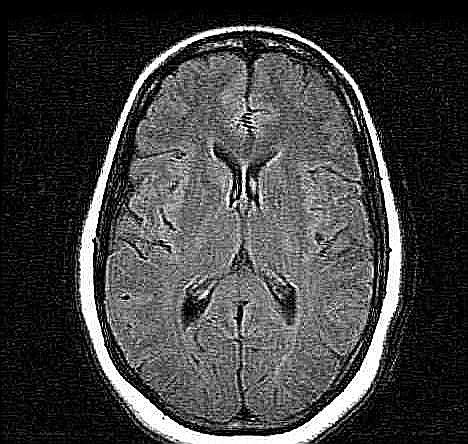Normal_Brain: (4, 1, 468, 444)
